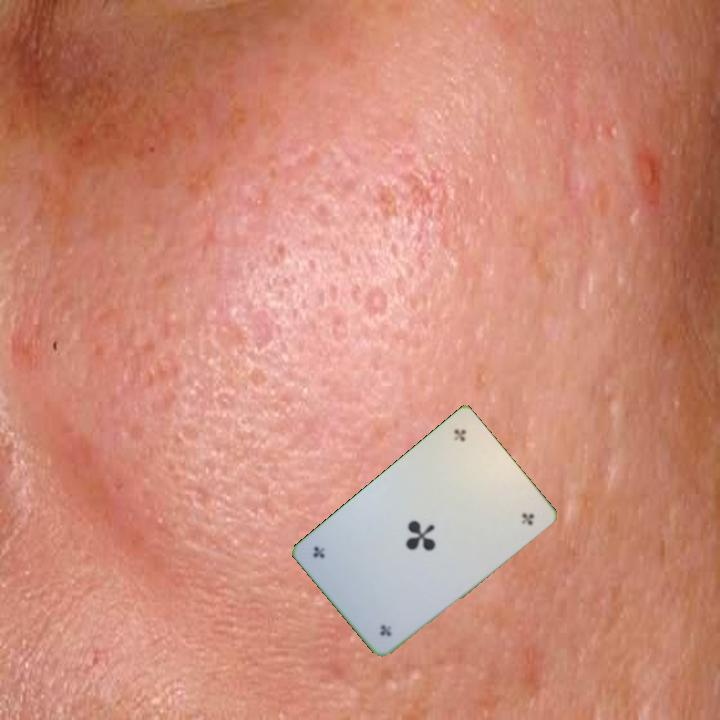c_a.png: (342, 563, 427, 649), (421, 418, 506, 504)
